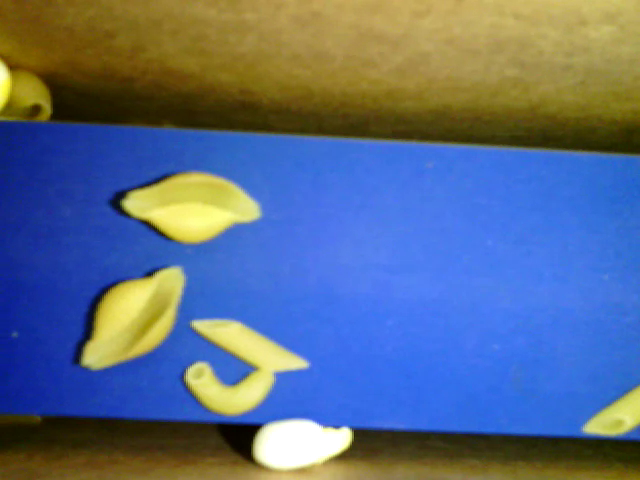elbow: (181, 360, 276, 417)
penne: (189, 317, 311, 374), (581, 387, 639, 436)
shell: (80, 266, 188, 373), (115, 171, 264, 247), (2, 67, 53, 127)
